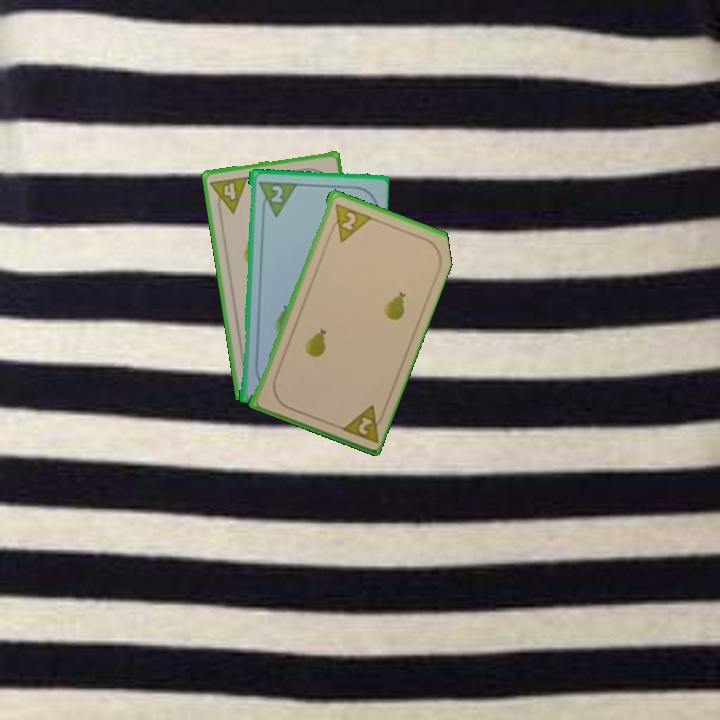2p: (336, 401, 388, 445), (326, 199, 373, 245), (267, 181, 286, 205)
4p: (207, 173, 251, 218)
